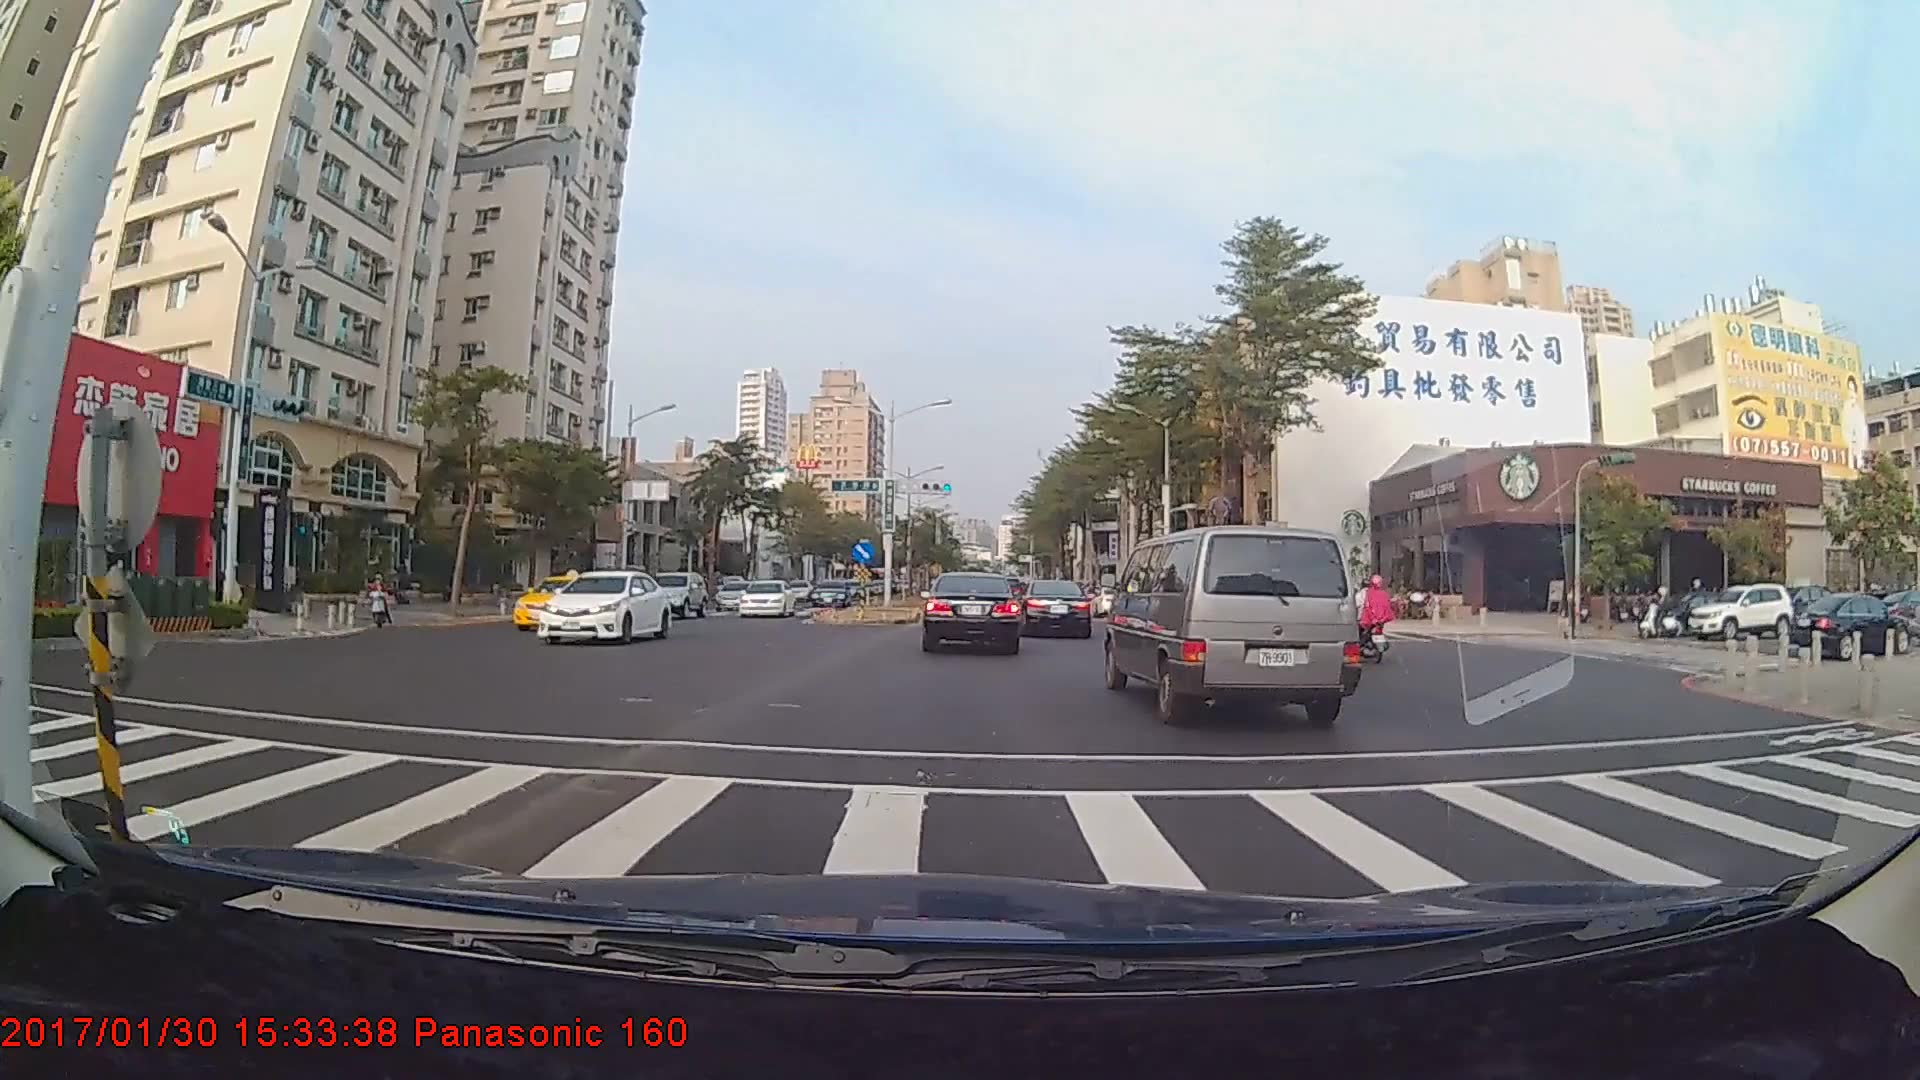pedestrian: (1558, 581, 1582, 645)
rider: (1638, 579, 1683, 640)
vehicle: (1108, 520, 1357, 724), (534, 569, 672, 646), (1784, 585, 1912, 655), (920, 570, 1022, 653), (509, 574, 612, 634), (1685, 585, 1797, 641), (1018, 579, 1093, 639), (642, 572, 706, 620), (735, 580, 793, 618), (809, 578, 852, 607)
